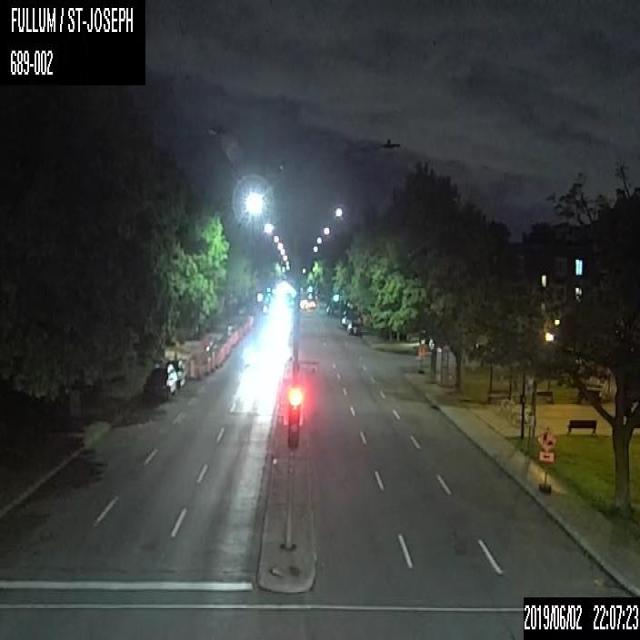construction: (538, 424, 556, 497), (187, 354, 194, 378), (195, 357, 202, 379), (209, 351, 215, 371), (214, 350, 219, 367)
vehicle: (143, 362, 176, 402), (346, 317, 360, 335), (340, 314, 350, 327)
